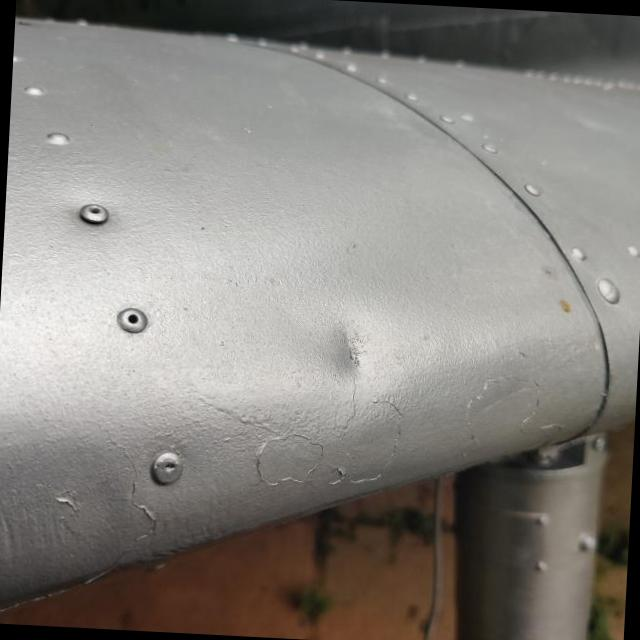Dent: (291, 302, 411, 432)
